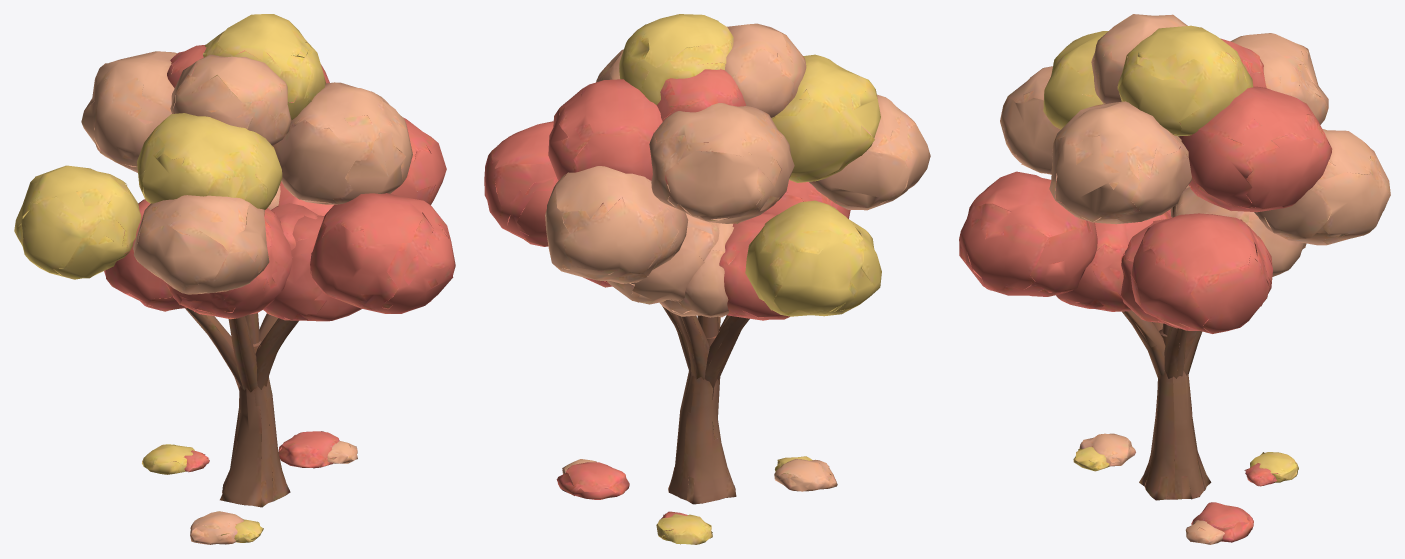
Rendered from autumn-tree-light.glb.
3 views of the same model, side by side, from view 1: azimuth 30°, elevation 25°; view 2: azimuth 150°, elevation 25°; view 3: azimuth 270°, elevation 25° (orthographic).
Parts seen in each view (by area): view 1: autumn-tree_body; view 2: autumn-tree_body; view 3: autumn-tree_body.
Part boxes in pixels (<box>): autumn-tree_body: <box>14,14,455,544</box>; autumn-tree_body: <box>484,14,930,544</box>; autumn-tree_body: <box>959,14,1390,544</box>.
Size of the model in its own units: 5.71 by 6.39 by 5.39.
1 material, 1 textured.
